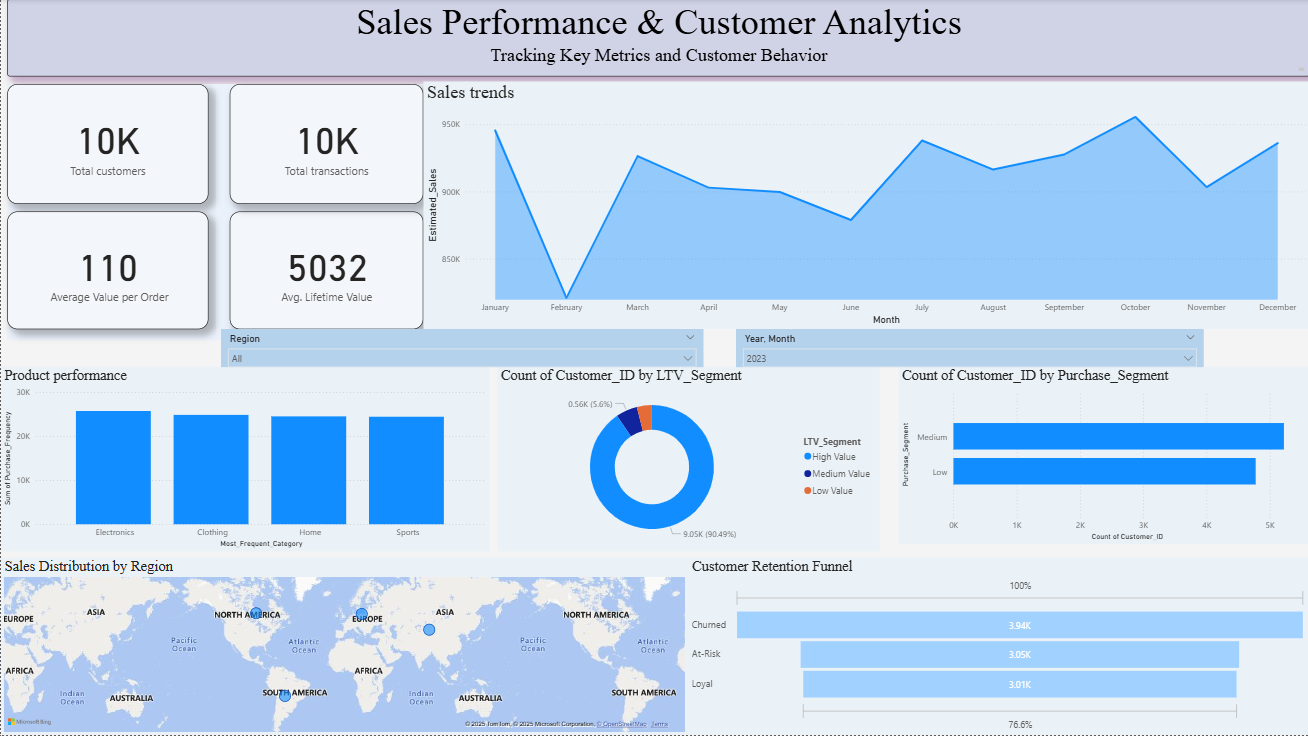

What the dashboard file says about the page in this screenshot:
{"tool":"powerbi","page":{"name":"Page 1","canvas":[1920,1080],"ordinal":0},"visuals":[{"type":"textbox","title":"Sales Performance & Customer Analytics","box":[9.2,0,1911.3,113.7],"z":0},{"type":"textbox","box":[9.2,124.7,627.3,376],"z":1000},{"type":"card","title":"Total customers","fields":{"Values":["Count(sales_and_customer_insights.Customer_ID)"]},"box":[9.2,124.7,295.3,176.1],"z":2000},{"type":"card","fields":{"Values":["Avg(sales_and_customer_insights.Lifetime_Value)"]},"box":[335.7,311.8,284.3,172.4],"z":3000},{"type":"card","fields":{"Values":["Count(sales_and_customer_insights.Transaction_ID)"]},"box":[335.7,124.7,284.3,176.1],"z":4000},{"type":"card","fields":{"Values":["Avg(sales_and_customer_insights.Average_Order_Value)"]},"box":[9.2,311.8,295.3,172.4],"z":5000},{"type":"areaChart","title":"Sales trends","fields":{"Category":["sales_and_customer_insights.Peak_Sales_Date.Variation.Date Hierarchy.Month"],"Y":["sales_and_customer_insights.Estimated_Sales"]},"box":[620,121.1,1300.5,363.2],"z":6000},{"type":"columnChart","title":"Product performance ","fields":{"Category":["sales_and_customer_insights.Most_Frequent_Category"],"Y":["Sum(sales_and_customer_insights.Purchase_Frequency)"]},"box":[0,539.3,717.2,271.5],"z":7000},{"type":"donutChart","fields":{"Y":["CountNonNull(sales_and_customer_insights.Customer_ID)"],"Category":["sales_and_customer_insights.LTV_Segment"]},"box":[728.2,539.3,561.3,271.5],"z":8000},{"type":"clusteredBarChart","fields":{"Category":["sales_and_customer_insights.Purchase_Segment"],"Y":["CountNonNull(sales_and_customer_insights.Customer_ID)"]},"box":[1317,539.3,603.5,260.5],"z":9000},{"type":"map","title":"Sales Distribution by Region","fields":{"Category":["sales_and_customer_insights.Region"],"Size":["sales_and_customer_insights.Estimated_Sales"]},"box":[0,819.9,1008.8,260.5],"z":10000},{"type":"funnel","title":"Customer Retention Funnel","fields":{"Category":["sales_and_customer_insights.Retention_Stage"],"Y":["CountNonNull(sales_and_customer_insights.Customer_ID)"]},"box":[1008.8,819.9,911.6,260.5],"z":11000},{"type":"slicer","fields":{"Values":["sales_and_customer_insights.Region"]},"box":[322.5,484.8,707.7,56.3],"z":12000},{"type":"slicer","fields":{"Values":["sales_and_customer_insights.Peak_Sales_Date.Variation.Date Hierarchy.Year","sales_and_customer_insights.Peak_Sales_Date.Variation.Date Hierarchy.Month"]},"box":[1077.7,484.8,686,56.3],"z":13000}]}

Visuals, with their boxes in screenshot pixels (x1, y1, x2, y2), scaled from the page's 1920x1080 canvas onto the 1308x736 screenshot:
"Sales Performance & Customer Analytics" textbox: 6/0/1307/77
textbox: 6/85/434/341
"Total customers" card: 6/85/207/205
card - Avg(sales_and_customer_insights.Lifetime_Value): 229/212/422/330
card - Count(sales_and_customer_insights.Transaction_ID): 229/85/422/205
card - Avg(sales_and_customer_insights.Average_Order_Value): 6/212/207/330
"Sales trends" areaChart: 422/83/1307/330
"Product performance " columnChart: 0/368/489/553
donutChart - CountNonNull(sales_and_customer_insights.Customer_ID) x sales_and_customer_insights.LTV_Segment: 496/368/878/553
clusteredBarChart - sales_and_customer_insights.Purchase_Segment x CountNonNull(sales_and_customer_insights.Customer_ID): 897/368/1307/545
"Sales Distribution by Region" map: 0/559/687/735
"Customer Retention Funnel" funnel: 687/559/1307/735
slicer - sales_and_customer_insights.Region: 220/330/702/369
slicer - sales_and_customer_insights.Peak_Sales_Date.Variation.Date Hierarchy.Year x sales_and_customer_insights.Peak_Sales_Date.Variation.Date Hierarchy.Month: 734/330/1202/369
